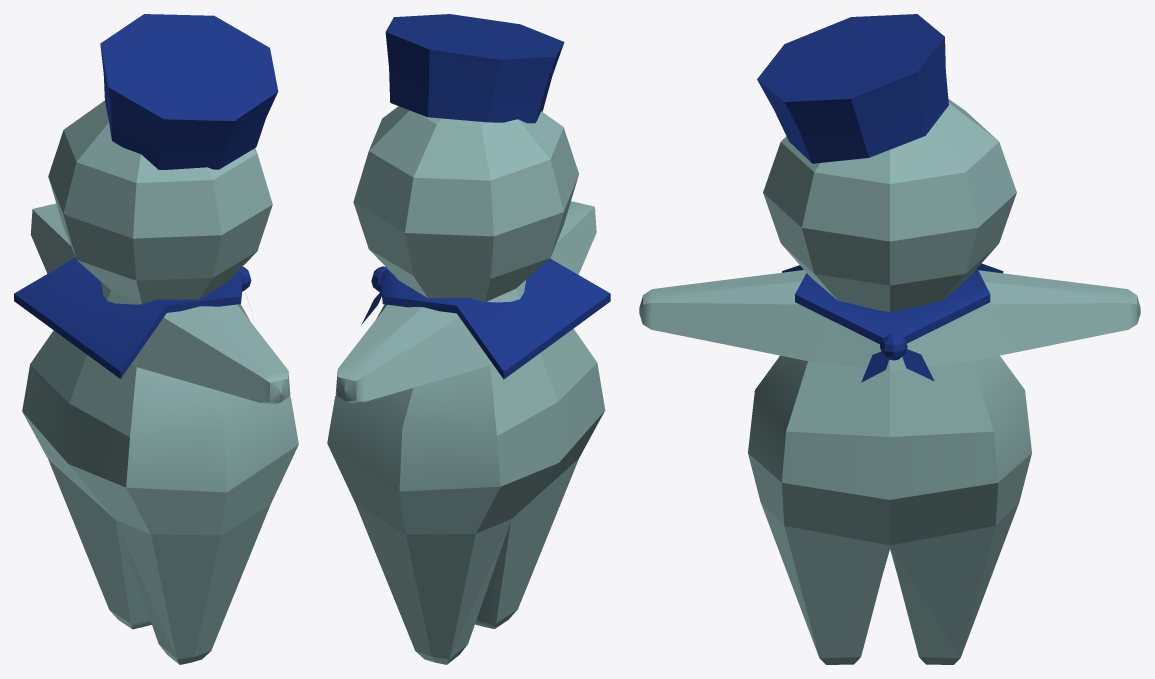
File: Character_sailor_001.fbx.fbx
3 renders of one model, left to right at view 1: azimuth 30°, elevation 25°; view 2: azimuth 150°, elevation 25°; view 3: azimuth 270°, elevation 25°, orthographic. The views are drawn at different scales.
Visible parts, largest first — view 1: character_sailor; view 2: character_sailor; view 3: character_sailor.
Part boxes in pixels (x1,y1,x2,y2): character_sailor: (14,14,298,664); character_sailor: (327,14,610,664); character_sailor: (639,14,1140,664).
Bounding box in the file's own units: 235 × 704 × 506.
